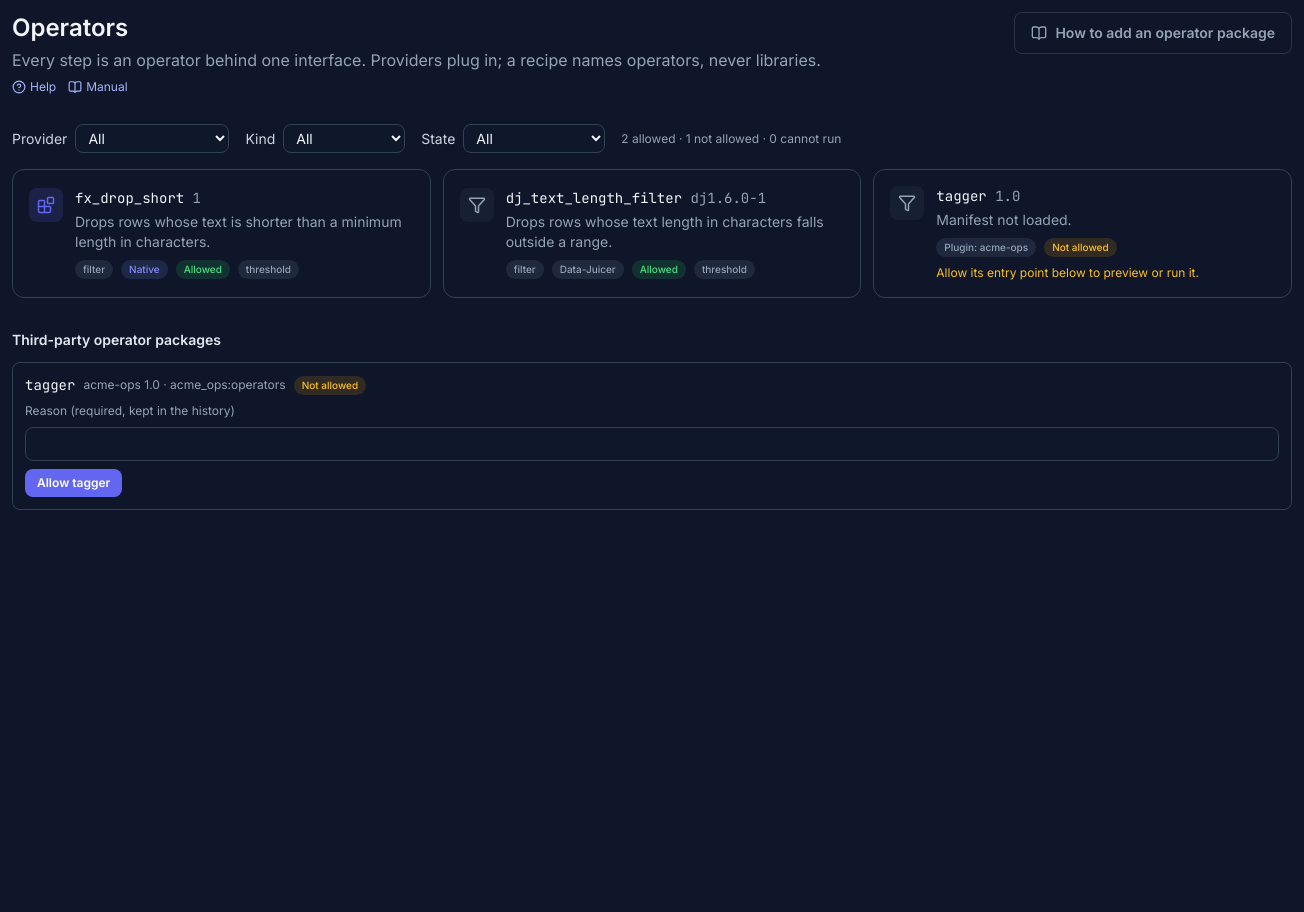
Scenario: OperatorsPanel › an open operator closes by the X, then by Escape
This screenshot has width=1304, height=912.
Click the button with test id "operator-card" at coordinates (46, 205), box left=12, top=169, right=431, bottom=298
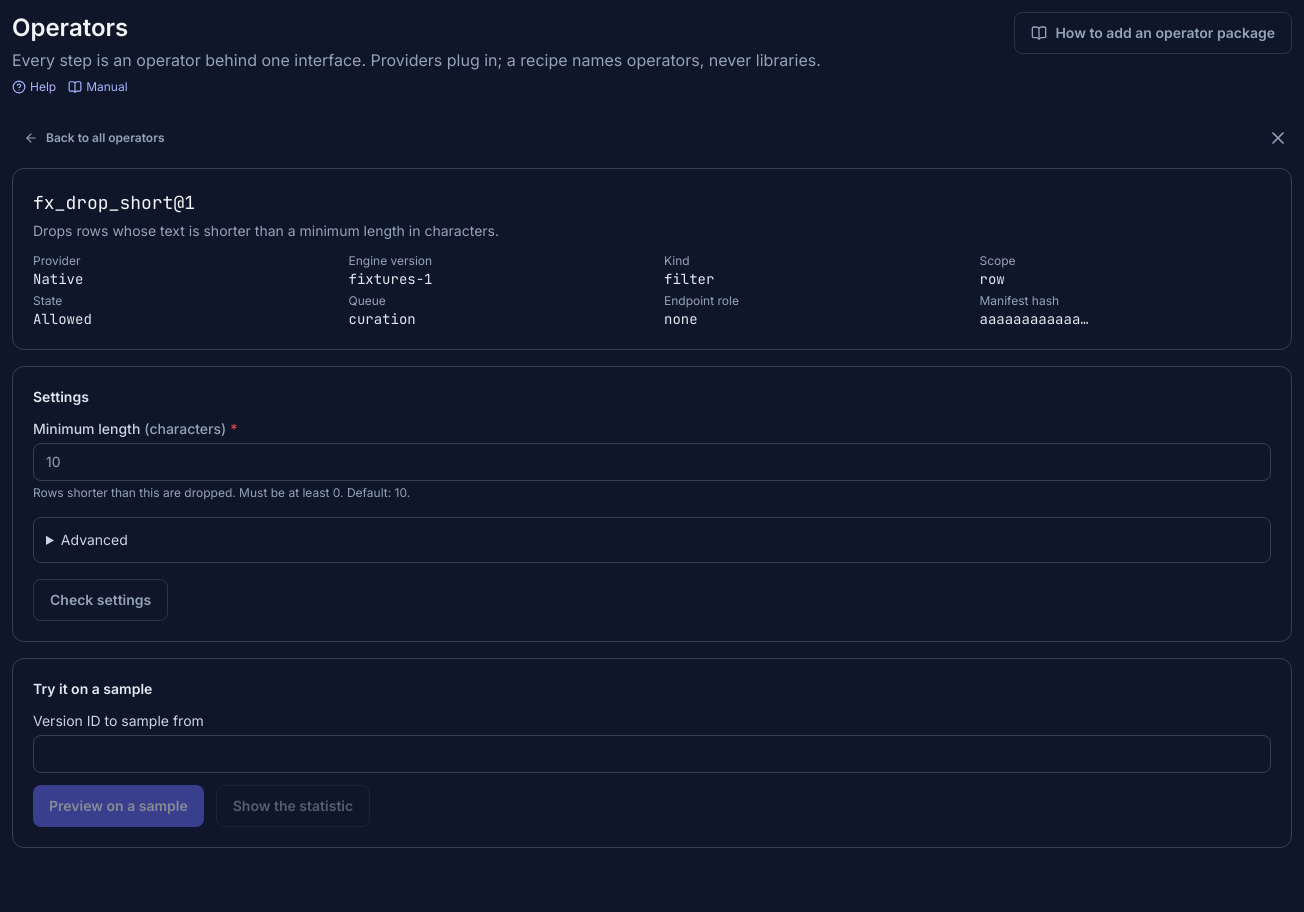
Now the element with test id "operator-detail" is shown
Click the button named "Close" at coordinates (1278, 138), box left=1264, top=124, right=1292, bottom=152
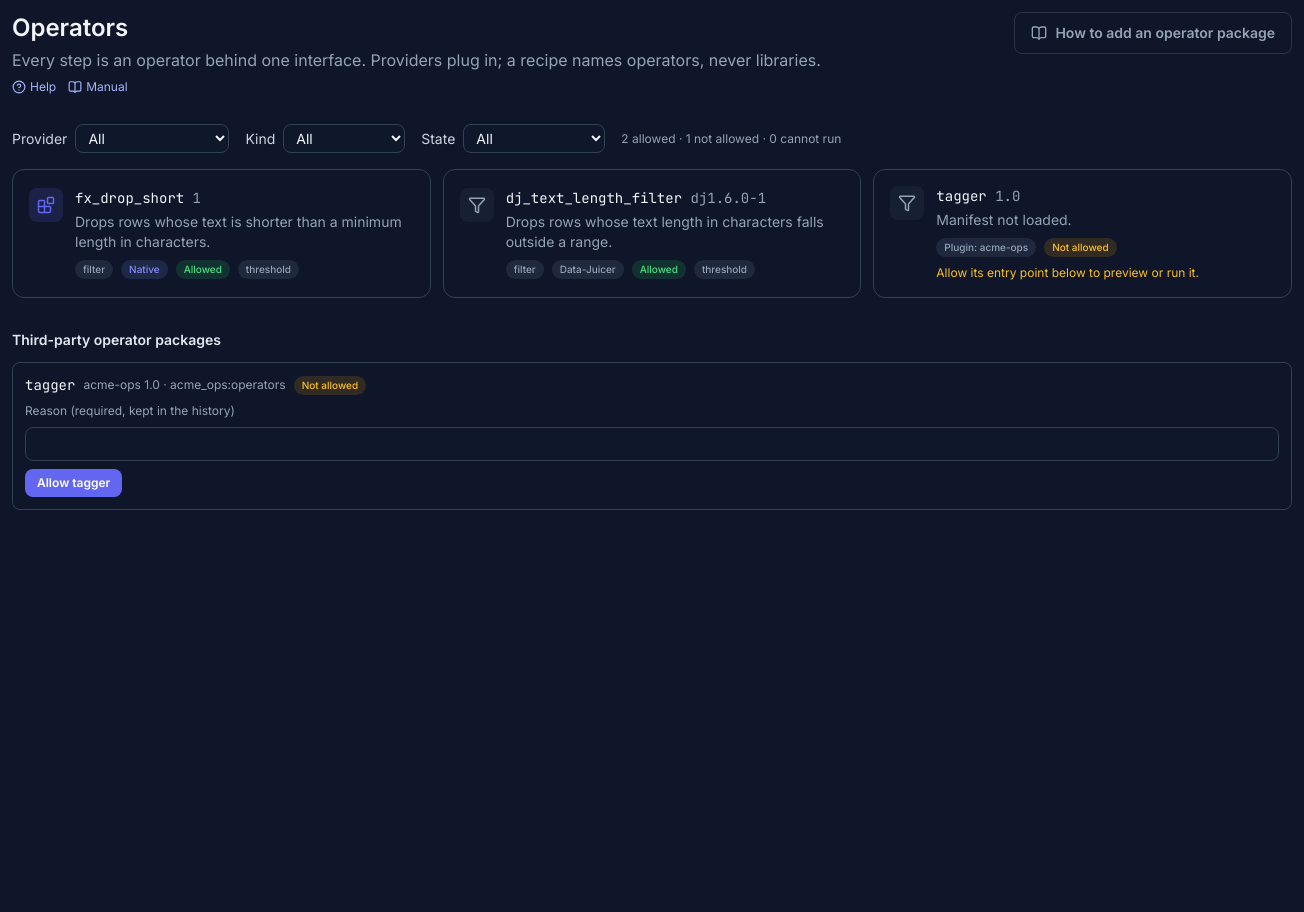
Now the element with test id "operator-detail" is gone
Click the button with test id "operator-card" at coordinates (46, 205), box left=12, top=169, right=431, bottom=298
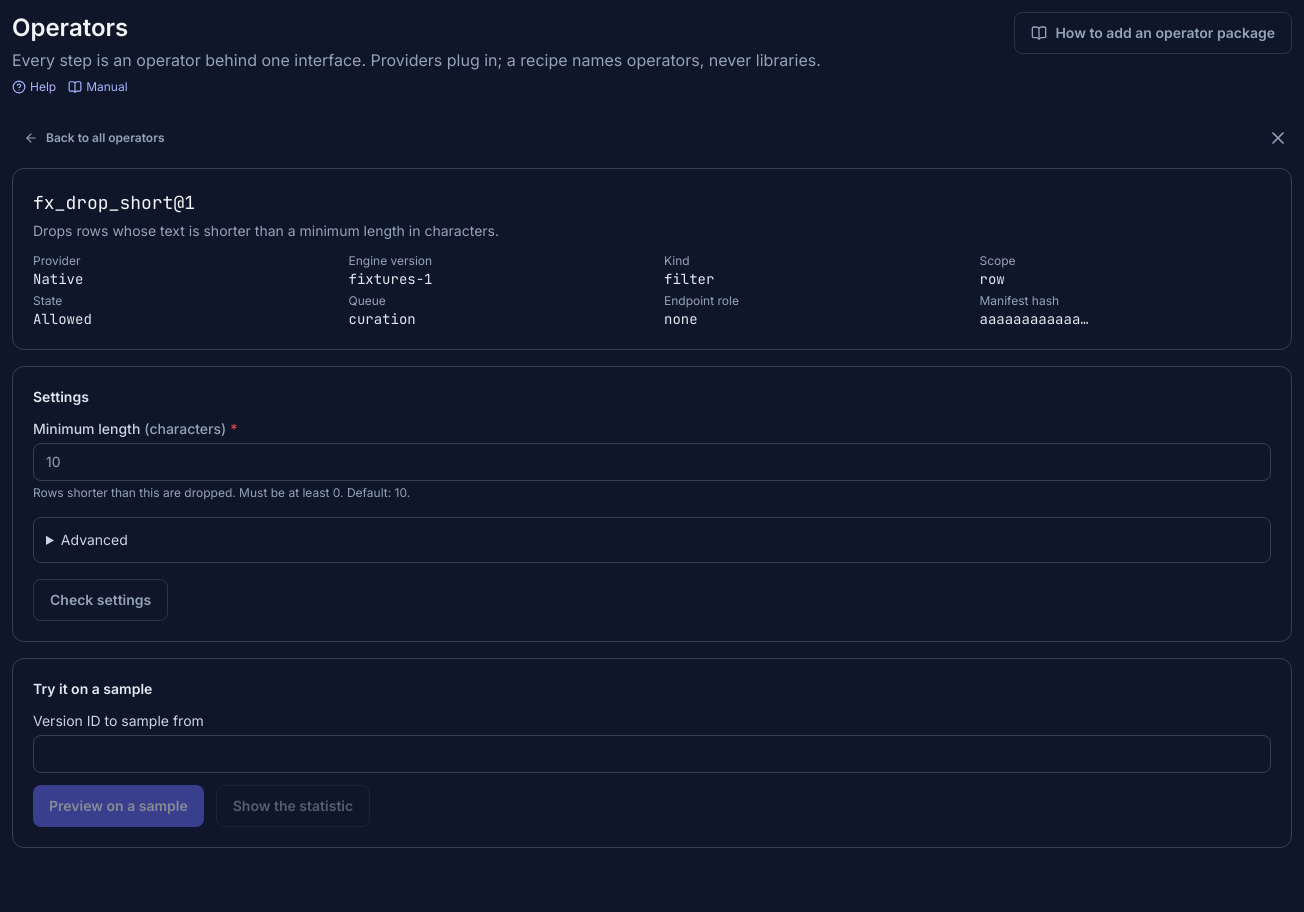
Now the element with test id "operator-detail" is shown
Press Escape
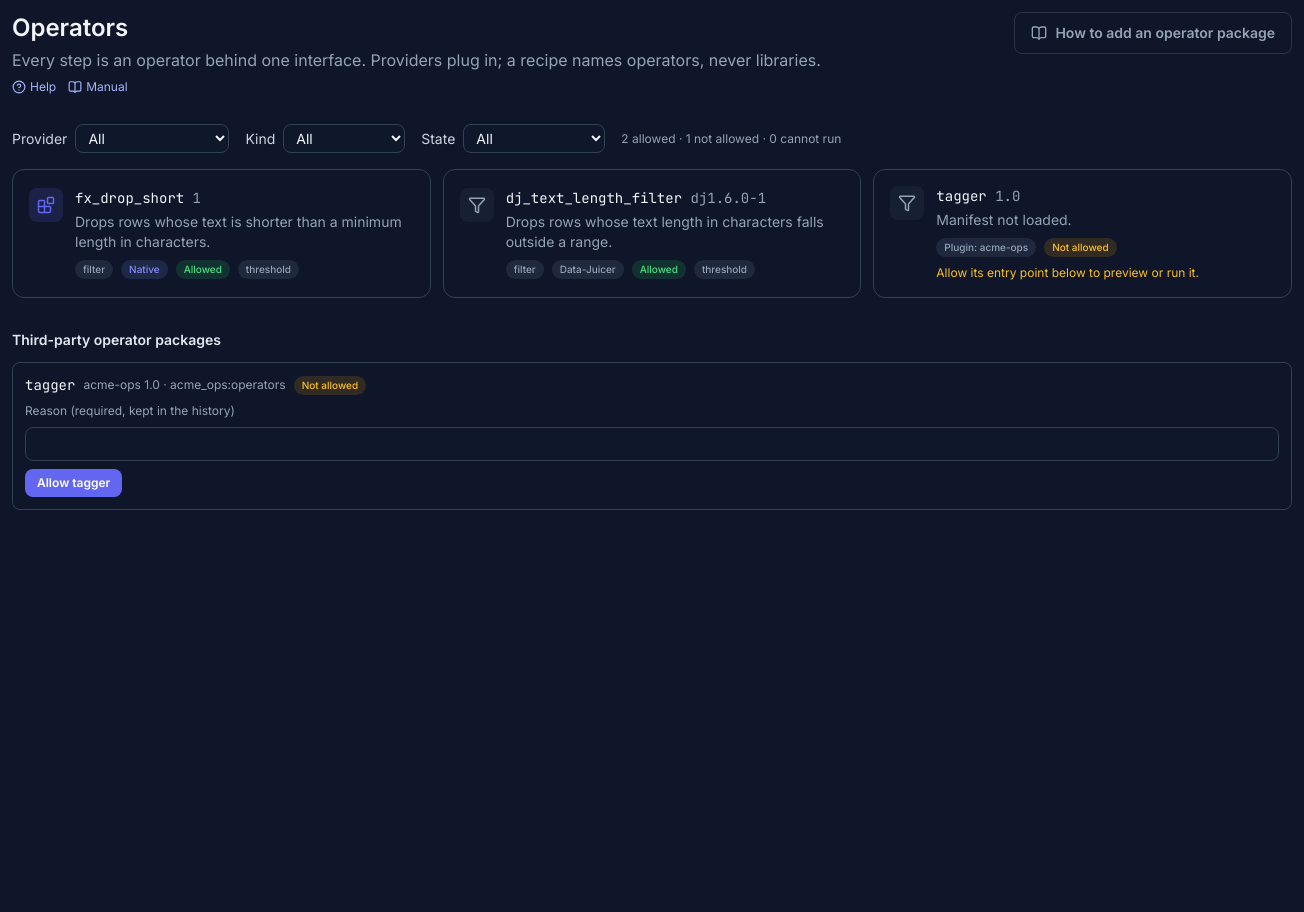
Now the element with test id "operator-detail" is gone
